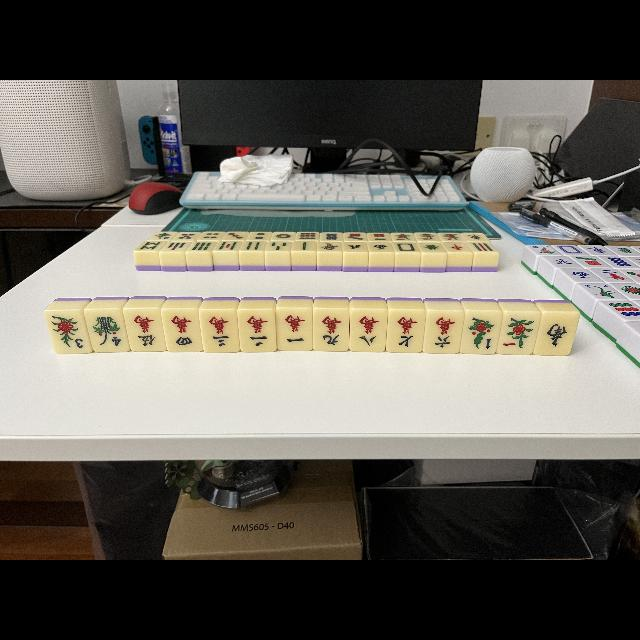c1: (276, 308, 312, 350)
c2: (238, 310, 276, 352)
c3: (200, 310, 238, 352)
c4: (162, 310, 202, 352)
c5: (124, 309, 166, 351)
c6: (424, 312, 460, 352)
c7: (388, 310, 422, 352)
c8: (350, 310, 384, 352)
c9: (314, 308, 348, 352)
f1-s: (462, 312, 498, 354)
f3-s: (45, 310, 89, 354)
f4-s: (85, 308, 129, 352)
s1-s: (500, 312, 538, 354)
ws: (537, 312, 575, 356)
